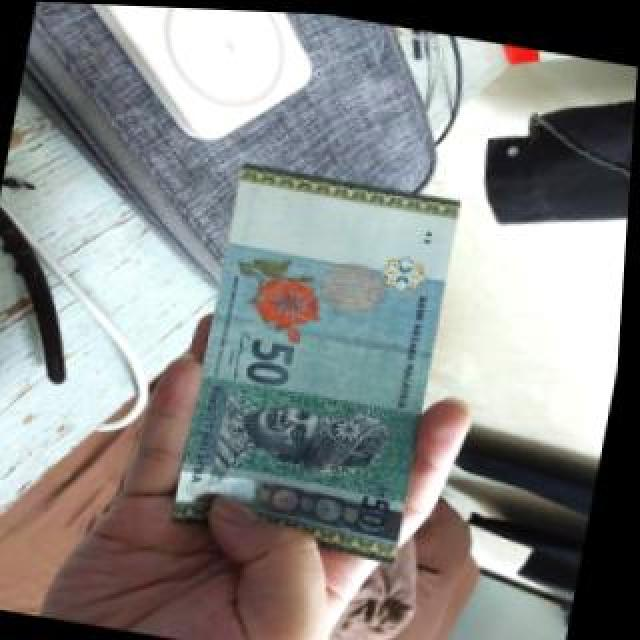50 Ringgit: (178, 164, 471, 573)
